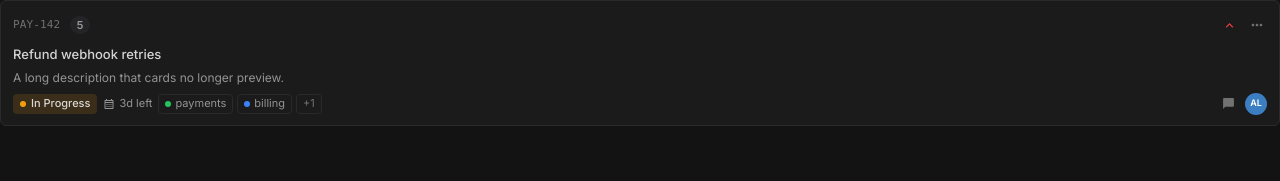
card anatomy › the card exposes one overflow menu instead of a row of buttons
The width and height of the screenshot is (1280, 181).
Click the button named "Actions for PAY-142" at (1257, 25), box [1243,11,1271,39]
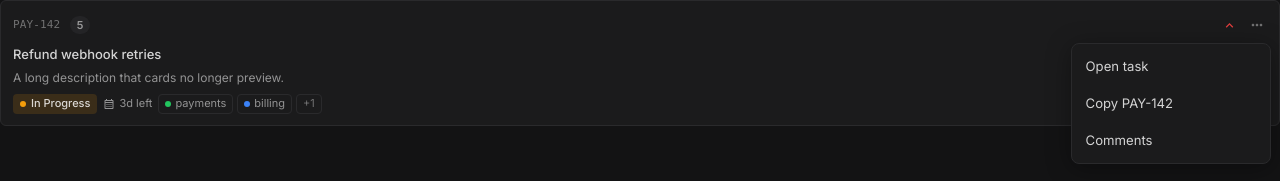
Expected: the menu is shown, [1071,43,1271,164]
Expected: the menu item "Open task" is shown, [1076,48,1266,85]
